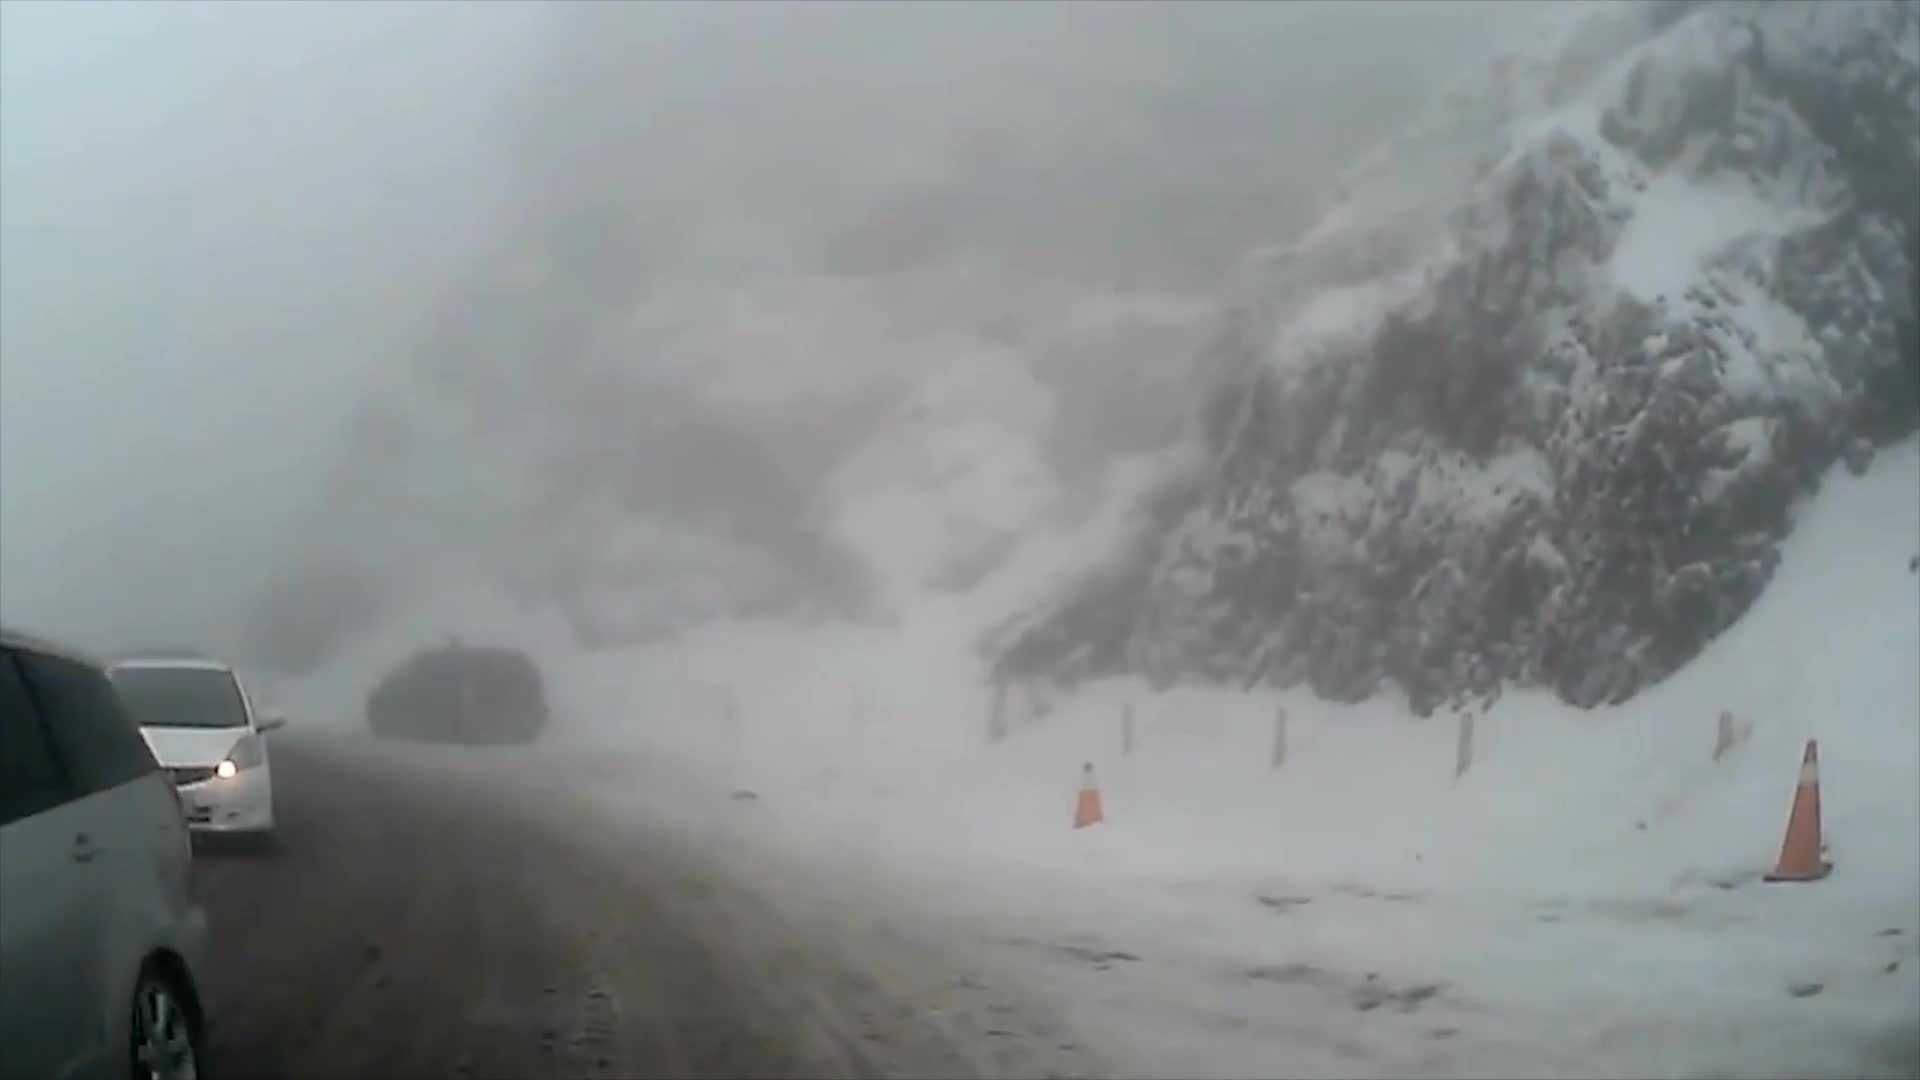vehicle: (0, 625, 218, 1080), (73, 659, 285, 862), (367, 647, 549, 749)
